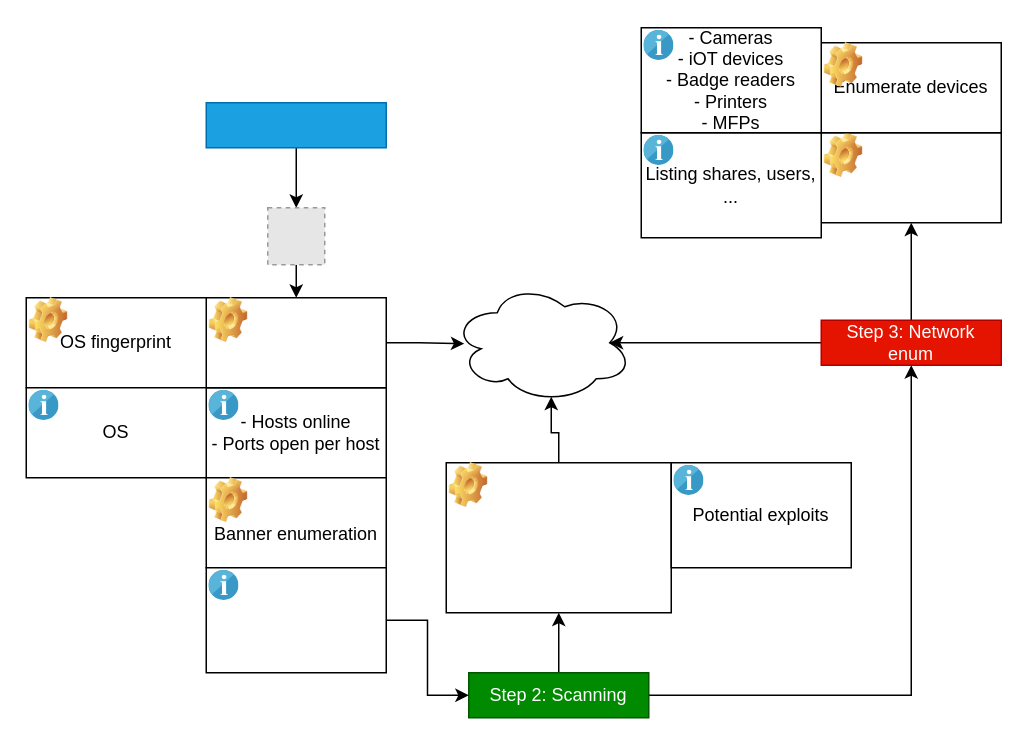
Some shapes in this 1028 by 744 pixel diagram are drawn without their labels. Grey dashed boxes stand in for pictures. Each missing label, with the box of its shape:
- Software running - Version numbers: (205, 566, 386, 673)
Nmap Nessus Nuclei Nikto ZAP Burp ...: (445, 461, 671, 613)
Portscan: (205, 296, 386, 388)
SNMPwalk, SMBclient, and LDAPsearch: (820, 131, 1001, 223)
Step 1 enumeration: (205, 101, 386, 148)
